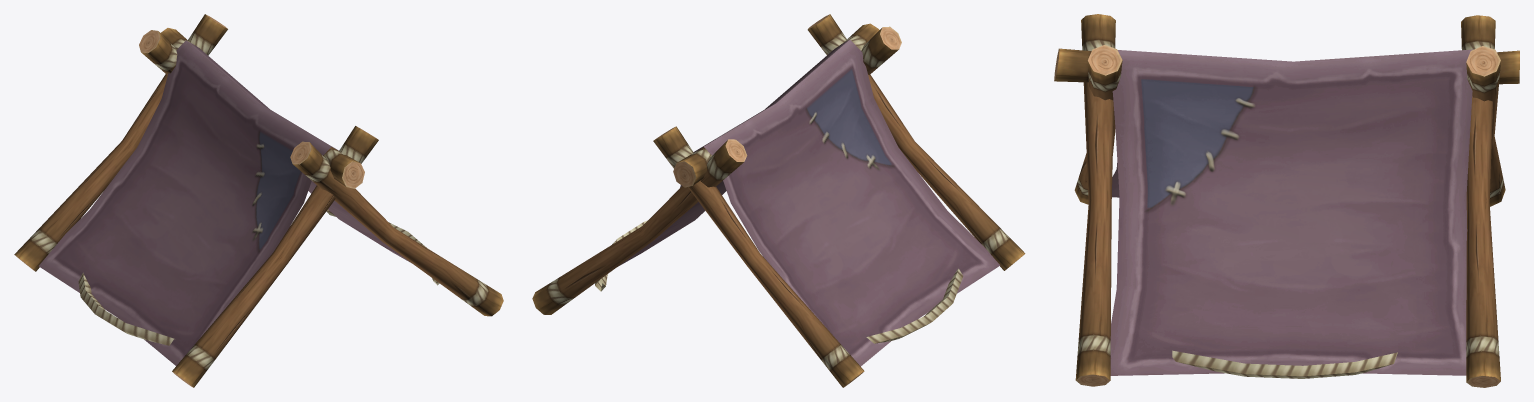
File: tent_purple_01.fbx
3 renders of one model, left to right at view 1: azimuth 30°, elevation 25°; view 2: azimuth 150°, elevation 25°; view 3: azimuth 270°, elevation 25°, orthographic. The views are drawn at different scales.
Parts seen in each view (by area): view 1: tent_purple_01:Mesh; view 2: tent_purple_01:Mesh; view 3: tent_purple_01:Mesh.
Part boxes in pixels (bbox=[...]): tent_purple_01:Mesh: bbox=[14, 14, 503, 387]; tent_purple_01:Mesh: bbox=[532, 14, 1025, 387]; tent_purple_01:Mesh: bbox=[1054, 14, 1519, 387].
Size of the model in its own units: 4.79 by 3 by 4.72.
